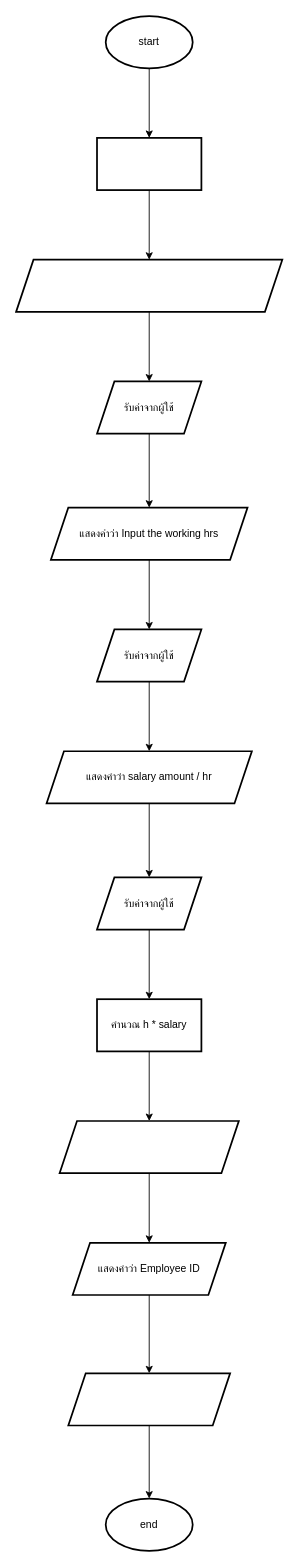
The diagram is 298 pixels wide and 1566 high, and some of its shapes have lost their labels. Each missing label, with the box of its shape:
สร้างตัวแปร id , decimal , h , salary: (96, 137, 202, 191)
แสดงคำว่า Expeted Output: (58, 1120, 239, 1174)
แสดงคำว่า Input he Employee ID(Max 10 chars): (15, 258, 283, 312)
แสดงคำว่า salary = u$: (67, 1372, 231, 1426)
